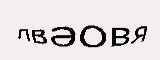В: (110, 26, 129, 48), (30, 27, 46, 45)
Л: (15, 27, 30, 43)
О: (78, 24, 107, 49)
Я: (130, 23, 147, 45)
Ә: (50, 25, 75, 48)
